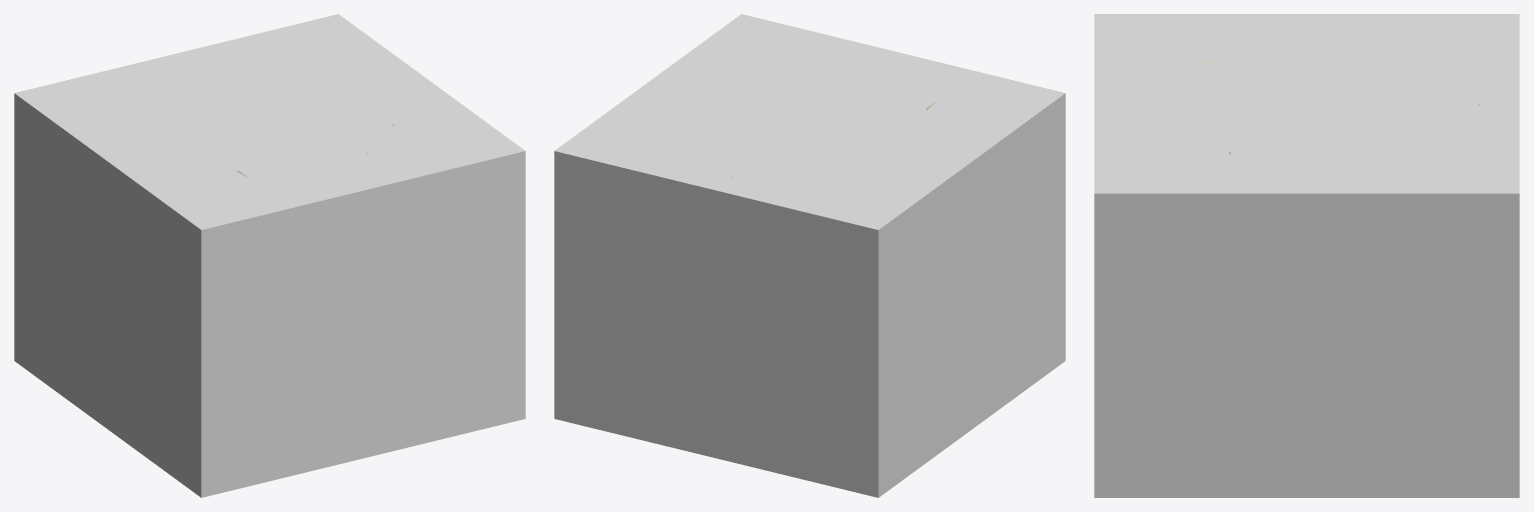
File: SM_GoblinCamp_PotAndStand.fbx
3 views of the same model, side by side, from view 1: azimuth 30°, elevation 25°; view 2: azimuth 150°, elevation 25°; view 3: azimuth 270°, elevation 25° (orthographic). The views are drawn at different scales.
Visible parts, largest first — view 1: Col_GoblinCamp_PotAndStand; view 2: Col_GoblinCamp_PotAndStand; view 3: Col_GoblinCamp_PotAndStand.
Part boxes in pixels (x1,y1,x2,y2): Col_GoblinCamp_PotAndStand: [14, 14, 525, 497]; Col_GoblinCamp_PotAndStand: [554, 14, 1065, 497]; Col_GoblinCamp_PotAndStand: [1094, 14, 1519, 497].
Size of the model in its own units: 94.8 by 74.89 by 94.8.
